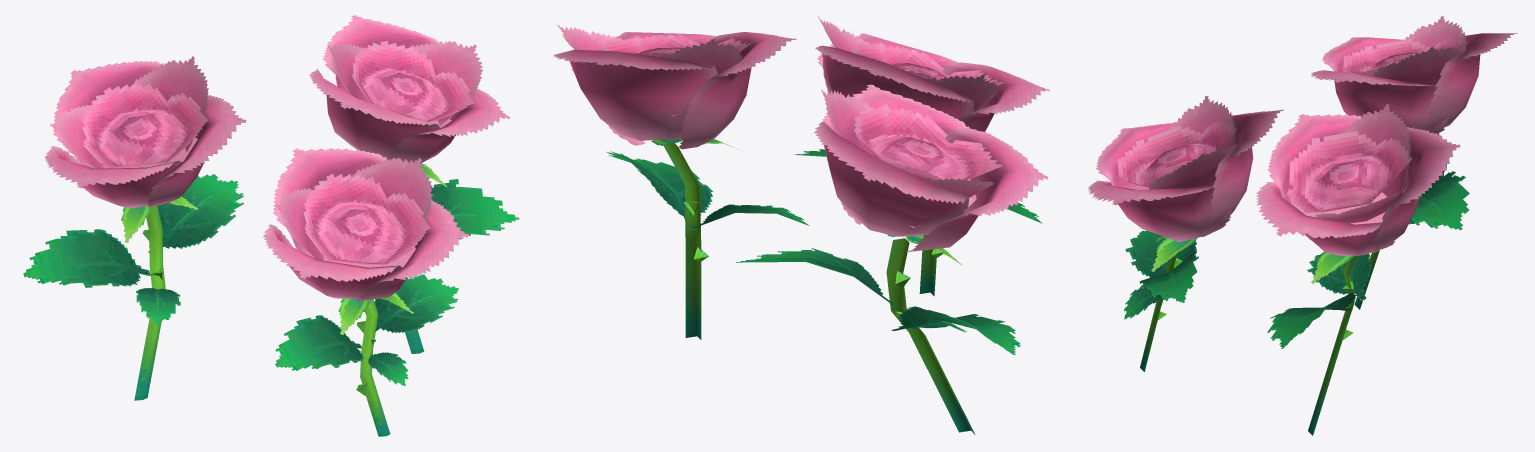
File: pink-roses.glb
3 views of the same model, side by side, from view 1: azimuth 30°, elevation 25°; view 2: azimuth 150°, elevation 25°; view 3: azimuth 270°, elevation 25° (orthographic). The views are drawn at different scales.
Bounding box in the file's own units: 10.07 × 6.53 × 8.37.
2 materials, 2 textured.
